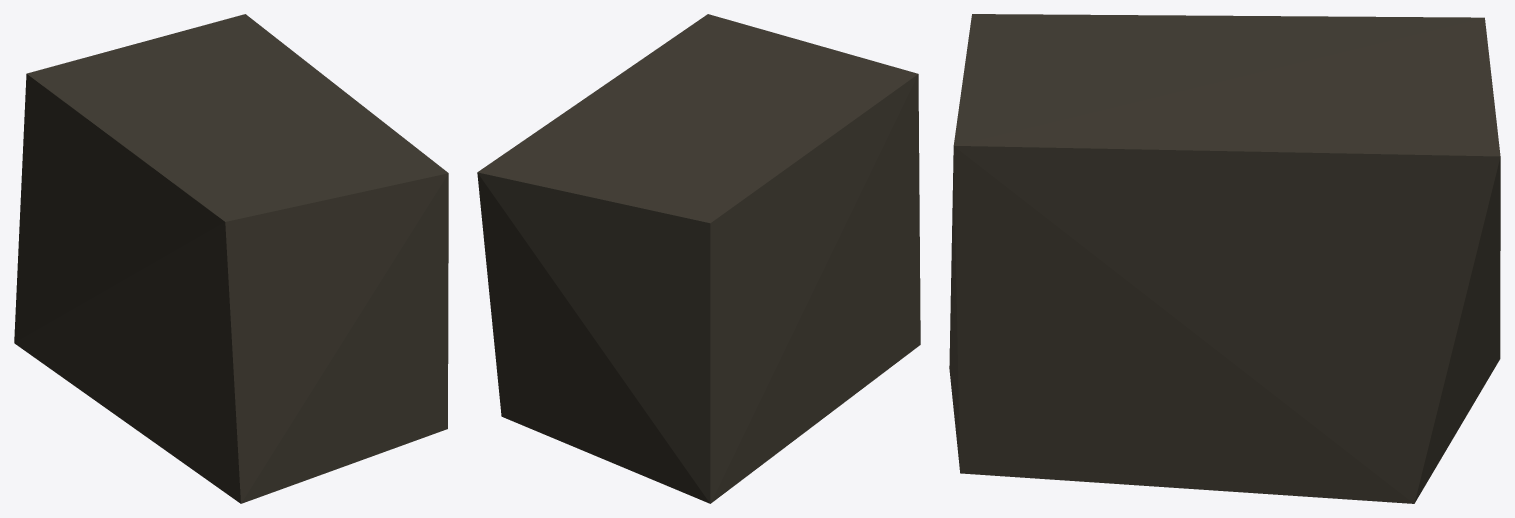
Rendered from Brick_Single_12_LOD.fbx.
The picture shows the model from 3 angles, left to right: view 1: azimuth 30°, elevation 25°; view 2: azimuth 150°, elevation 25°; view 3: azimuth 270°, elevation 25°; orthographic projection. The views are drawn at different scales.
Parts seen in each view (by area): view 1: Group5596; view 2: Group5596; view 3: Group5596.
Boxes of the visible parts, box(x1,y1,x2,y2) form: Group5596: box(14, 14, 448, 503); Group5596: box(477, 14, 920, 503); Group5596: box(949, 14, 1500, 503).
Bounding box in the file's own units: 0.3731 × 0.4114 × 0.5832.
